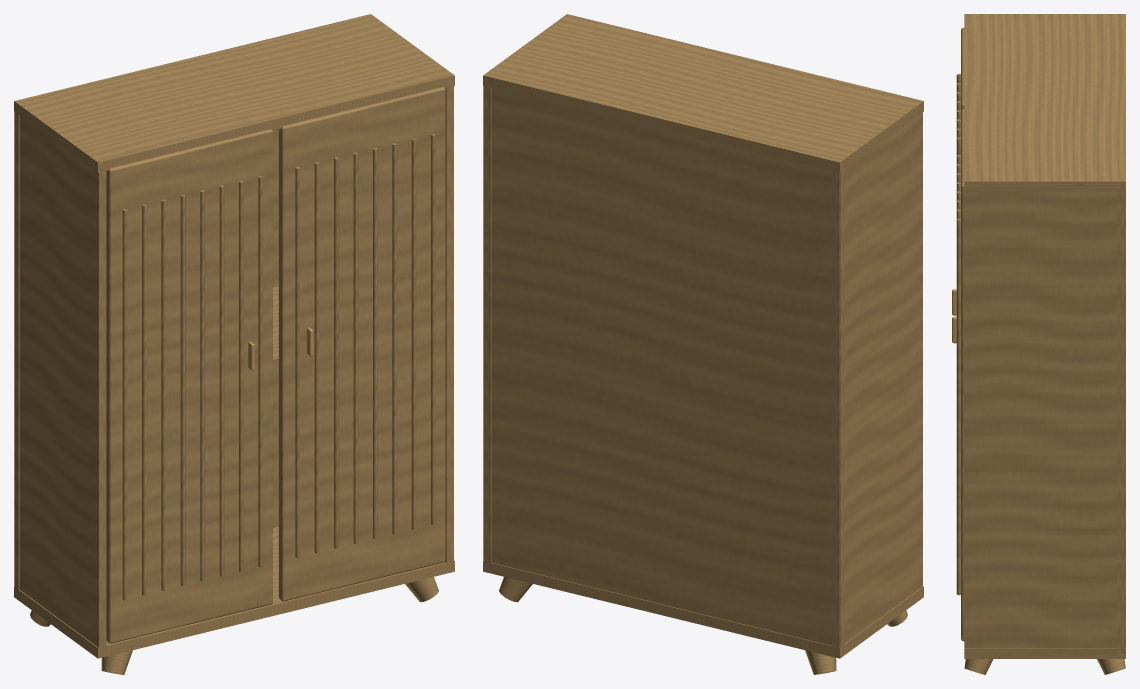
Rendered from wardrobe_veranda-2fa1592dec87.glb.
3 views of the same model, side by side, from view 1: azimuth 30°, elevation 25°; view 2: azimuth 150°, elevation 25°; view 3: azimuth 270°, elevation 25° (orthographic). The views are drawn at different scales.
Parts seen in each view (by area): view 1: surface_bamboo; view 2: surface_bamboo; view 3: surface_bamboo.
Part boxes in pixels (x1,y1,x2,y2): surface_bamboo: (14, 14, 454, 674); surface_bamboo: (483, 14, 923, 674); surface_bamboo: (956, 14, 1125, 674).
Size of the model in its own units: 1.37 by 1.93 by 0.6026.
2 materials, 1 textured.
